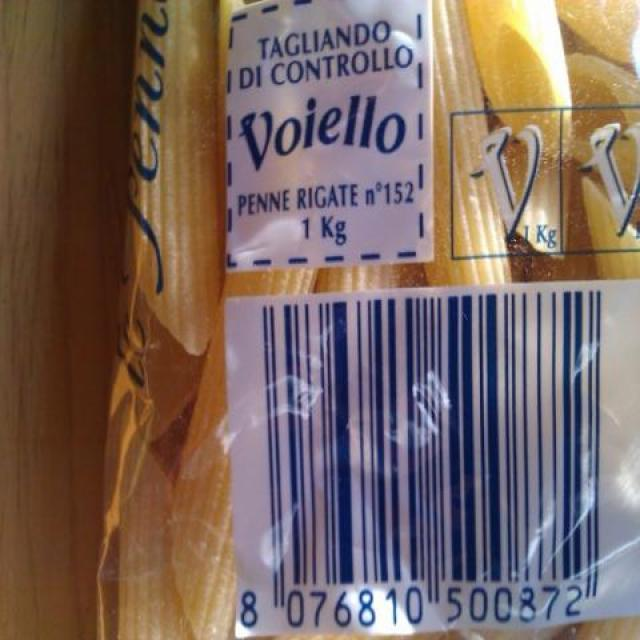Barcode: (224, 279, 629, 633)
